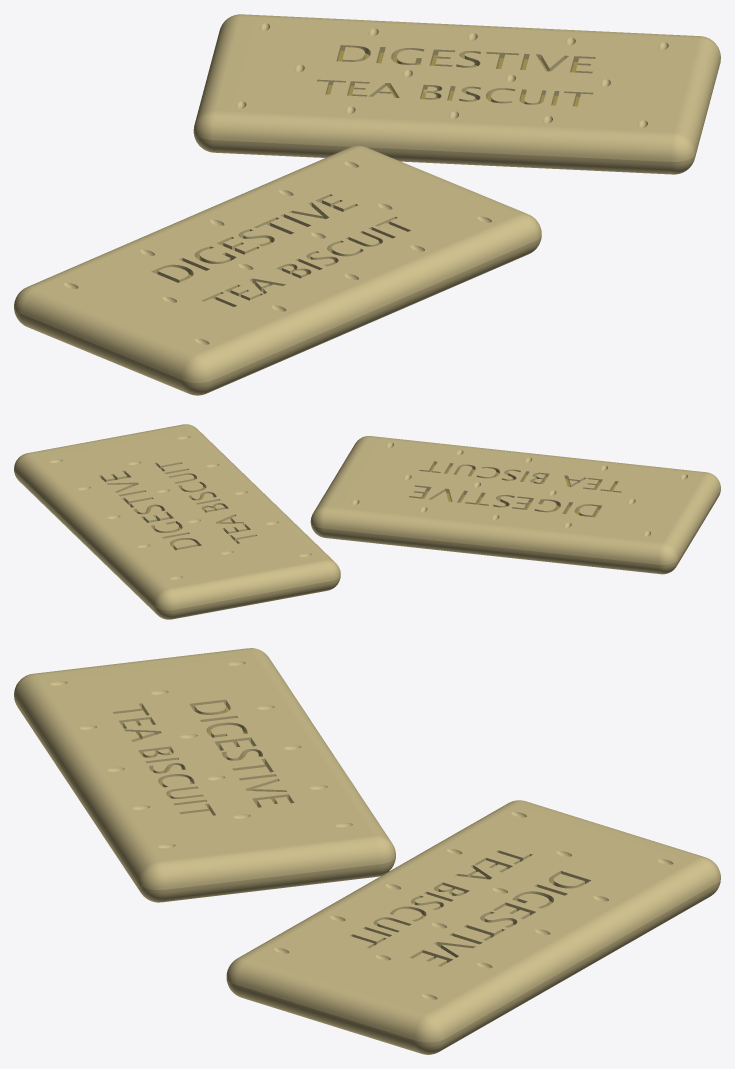
The model's file is TeaBiscuitGeo 1.fbx.
The picture shows the model from 3 angles, top to bottom: view 1: azimuth 30°, elevation 25°; view 2: azimuth 150°, elevation 25°; view 3: azimuth 270°, elevation 25°; orthographic projection. The views are drawn at different scales.
Visible parts, largest first — view 1: biscuitgeo; view 2: biscuitgeo; view 3: biscuitgeo.
Part boxes in pixels (bbox=[...]): biscuitgeo: bbox=[14, 14, 720, 395]; biscuitgeo: bbox=[14, 424, 720, 619]; biscuitgeo: bbox=[14, 648, 720, 1054].
Bounding box in the file's own units: 141 × 6.73 × 110.
